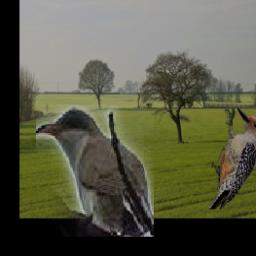Cuckoo: (37, 105, 155, 237)
Woodpecker: (209, 108, 256, 209)
